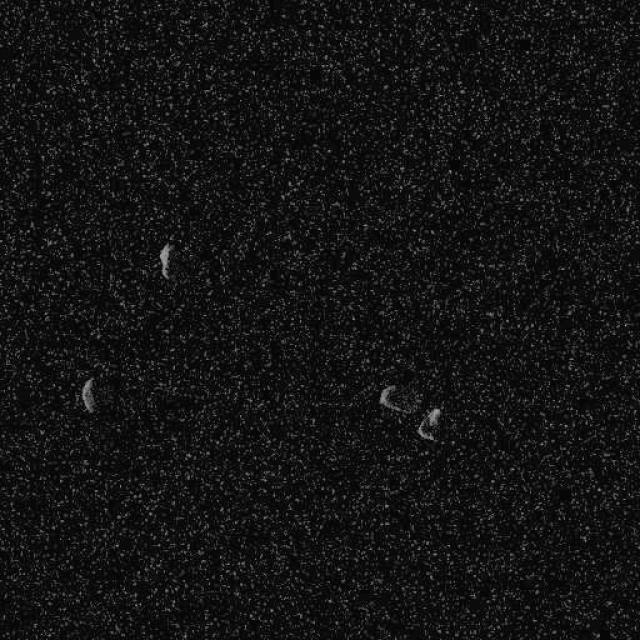D2: (378, 382, 422, 413), (415, 407, 443, 442), (80, 376, 98, 414), (158, 241, 172, 279)
